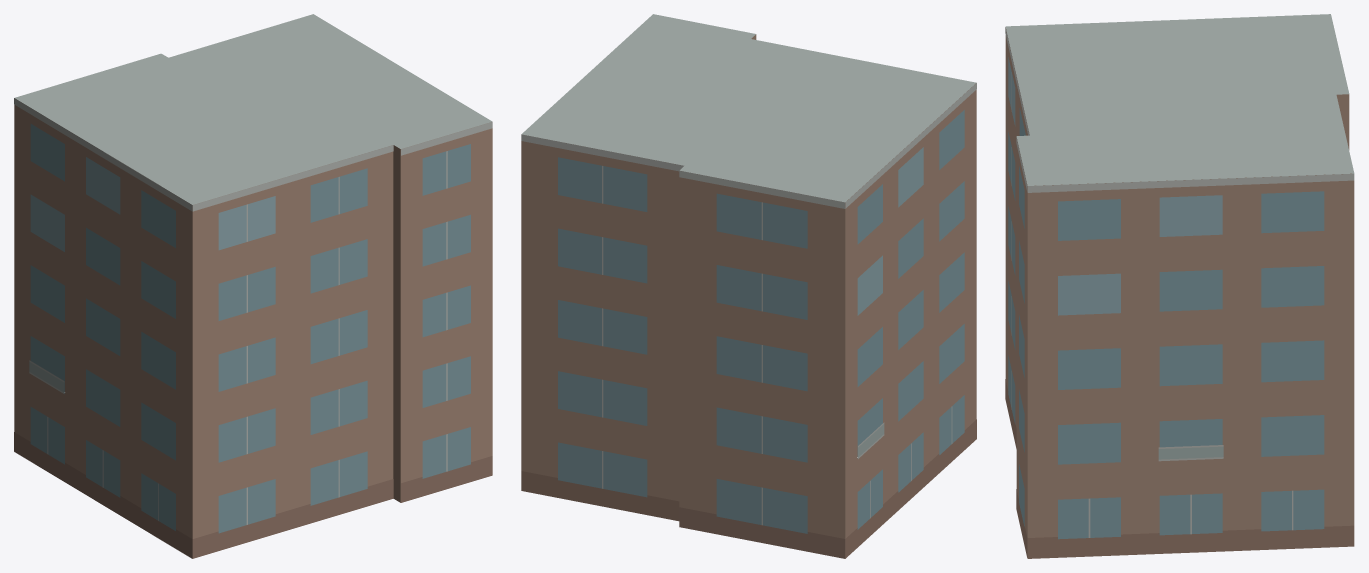
The model's file is survey-upis-32703089.glb.
The picture shows the model from 3 angles, left to right: view 1: azimuth 30°, elevation 25°; view 2: azimuth 150°, elevation 25°; view 3: azimuth 270°, elevation 25°; orthographic projection. The views are drawn at different scales.
Parts seen in each view (by area): view 1: survey-upis-32703089.tmp; view 2: survey-upis-32703089.tmp; view 3: survey-upis-32703089.tmp.
Boxes of the visible parts, x1,y1,x2,y2 form: survey-upis-32703089.tmp: [14, 14, 492, 558]; survey-upis-32703089.tmp: [521, 14, 976, 558]; survey-upis-32703089.tmp: [1005, 14, 1354, 558].
Bounding box in the file's own units: 12.97 × 13.1 × 11.12.
